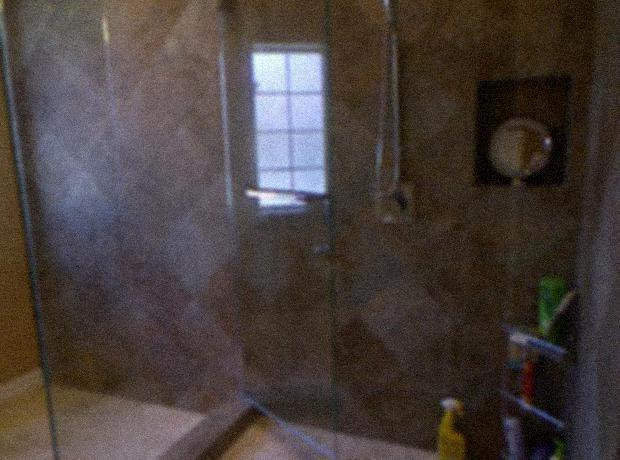Ducha: (117, 0, 616, 454)
